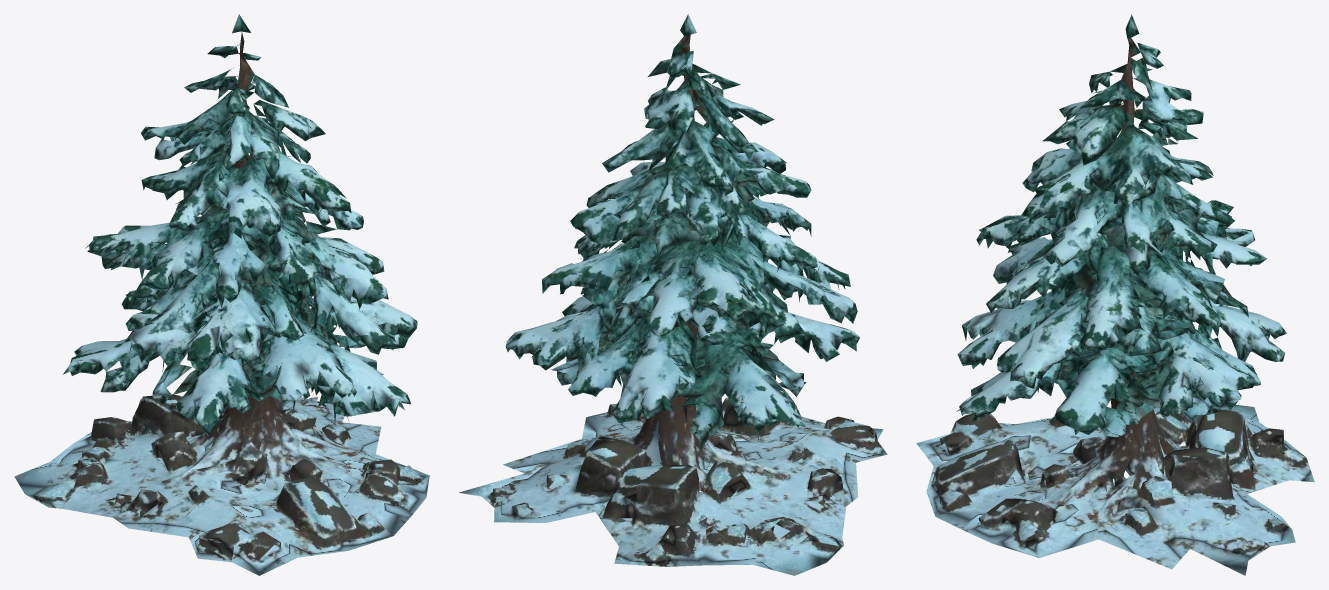
The model's file is snowy_tree.glb.
3 views of the same model, side by side, from view 1: azimuth 30°, elevation 25°; view 2: azimuth 150°, elevation 25°; view 3: azimuth 270°, elevation 25° (orthographic). The views are drawn at different scales.
Visible parts, largest first — view 1: geometry_0; view 2: geometry_0; view 3: geometry_0.
Boxes of the visible parts, bbox=[...] form: geometry_0: bbox=[14, 14, 429, 575]; geometry_0: bbox=[459, 14, 887, 575]; geometry_0: bbox=[916, 14, 1314, 575].
Size of the model in its own units: 0.7243 by 0.9439 by 0.7134.
Materials: 1 (1 with a texture image).
